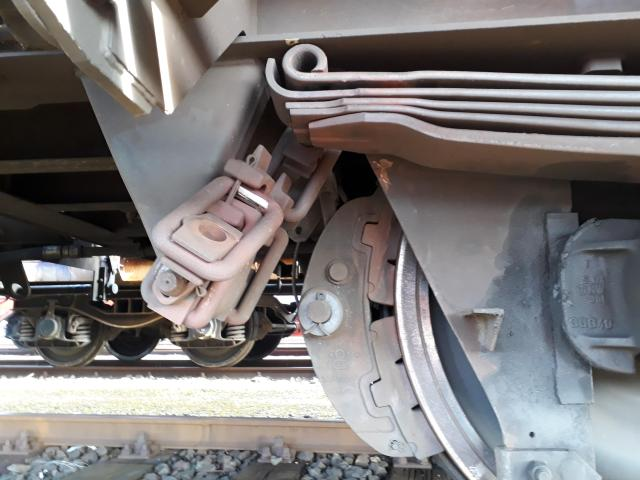blattfederww: (260, 40, 640, 160)
